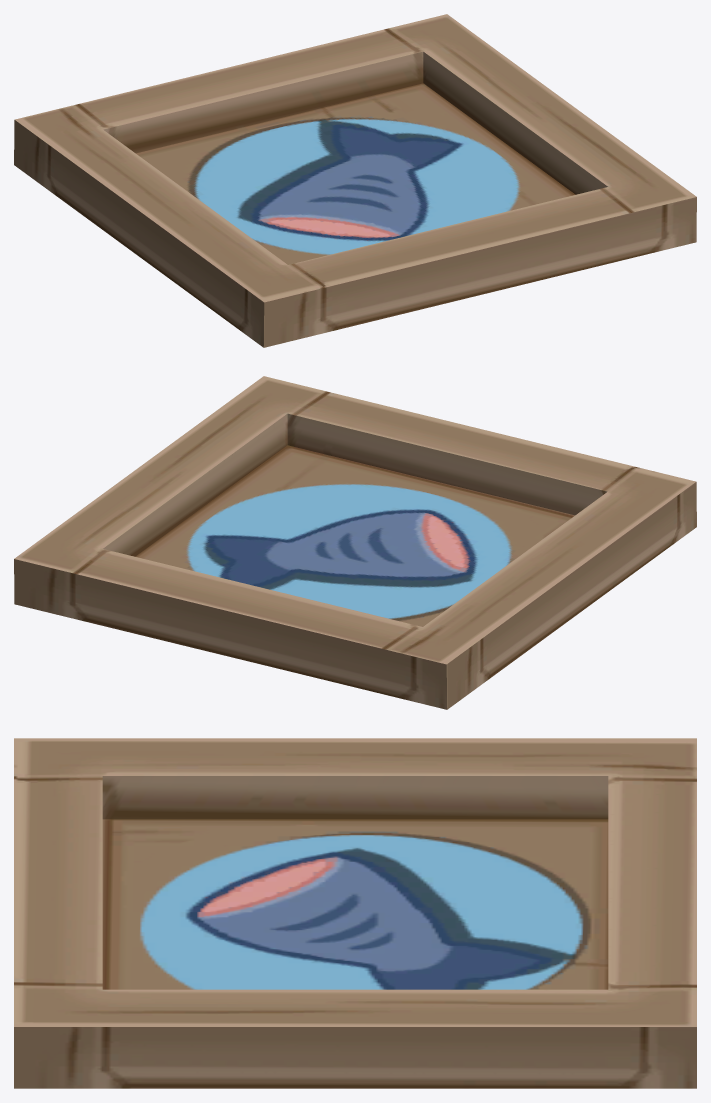
The model's file is CrateLid_Fish.obj.
3 views of the same model, one above another, from view 1: azimuth 30°, elevation 25°; view 2: azimuth 150°, elevation 25°; view 3: azimuth 270°, elevation 25° (orthographic). The views are drawn at different scales.
Parts seen in each view (by area): view 1: CrateLid_mesh-sharedassets2.assets-136; view 2: CrateLid_mesh-sharedassets2.assets-136; view 3: CrateLid_mesh-sharedassets2.assets-136.
Part boxes in pixels (x1=…): CrateLid_mesh-sharedassets2.assets-136: x1=14, y1=14, x2=696, y2=347; CrateLid_mesh-sharedassets2.assets-136: x1=14, y1=376, x2=696, y2=709; CrateLid_mesh-sharedassets2.assets-136: x1=14, y1=738, x2=696, y2=1088.
Size of the model in its own units: 1 by 0.1 by 1.
